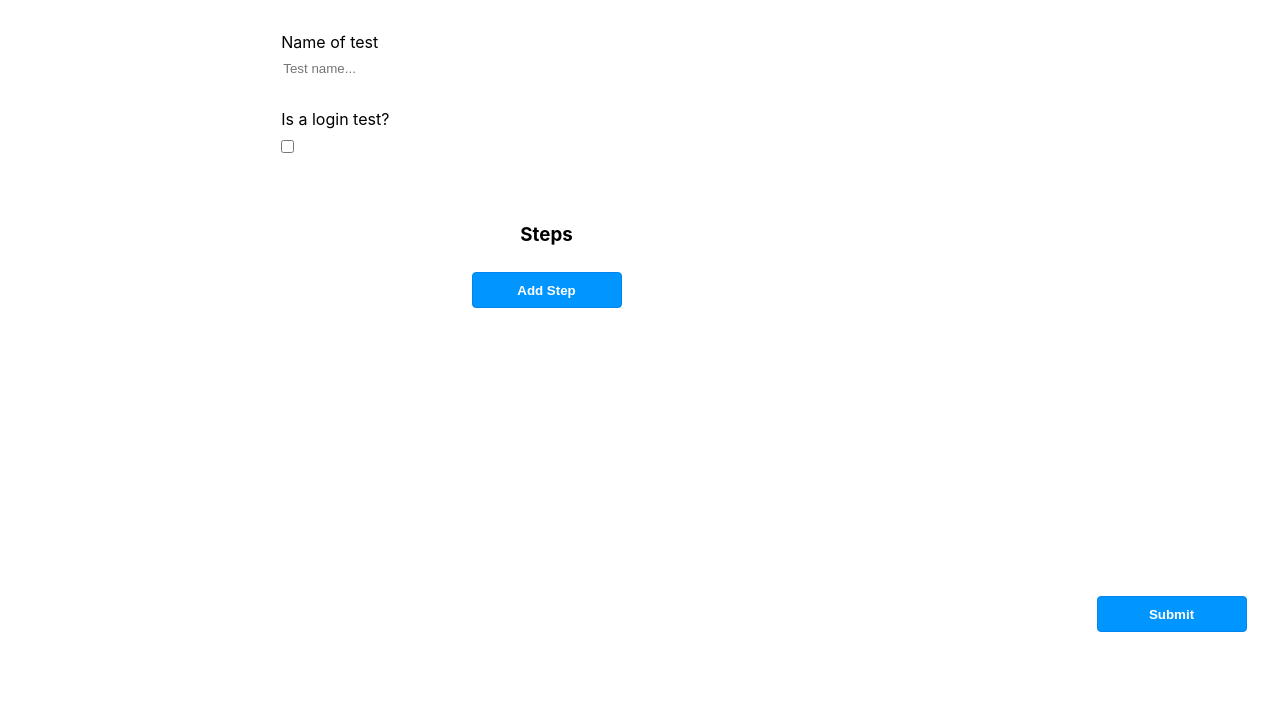
Test: Create test server error
The image size is (1280, 720).
Type "ReactTest" into the field with test id "testCreateTextInput".
click(549, 68); type("ReactTest")  # box [281,60,816,77]
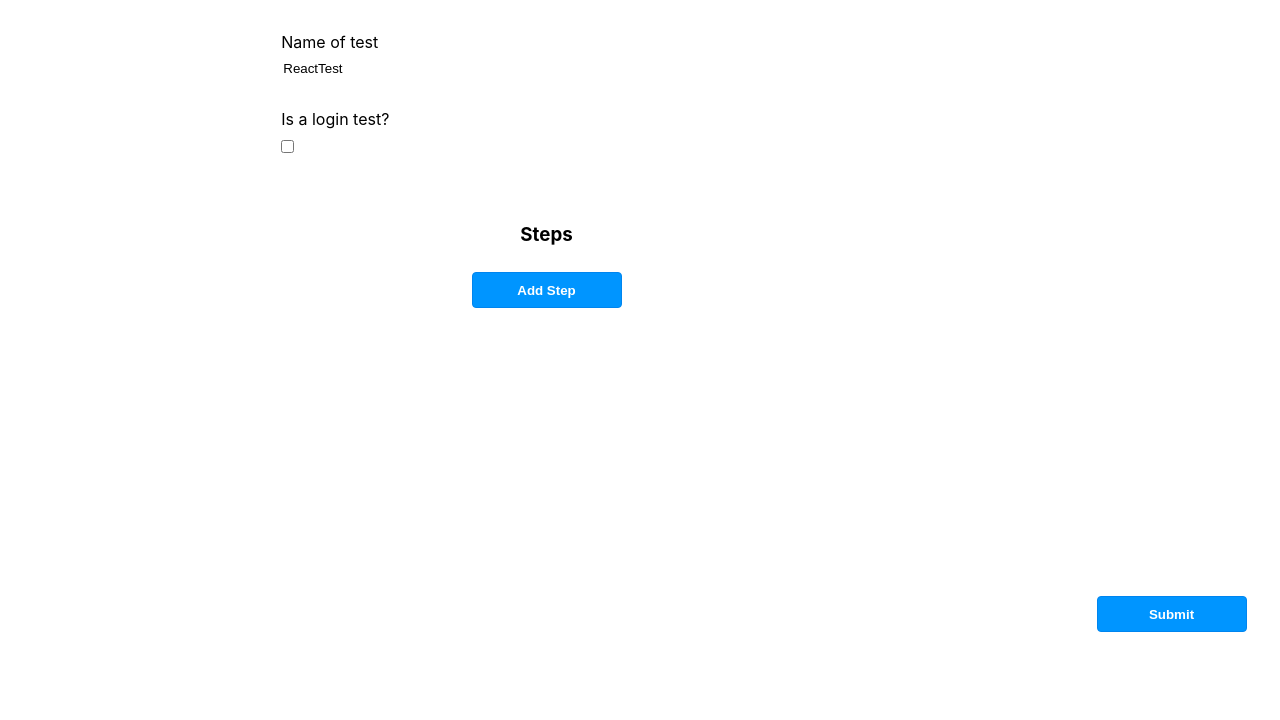
Click the button with test id "testCreateSubmit".
click(1172, 614)  # box [1096,596,1246,632]
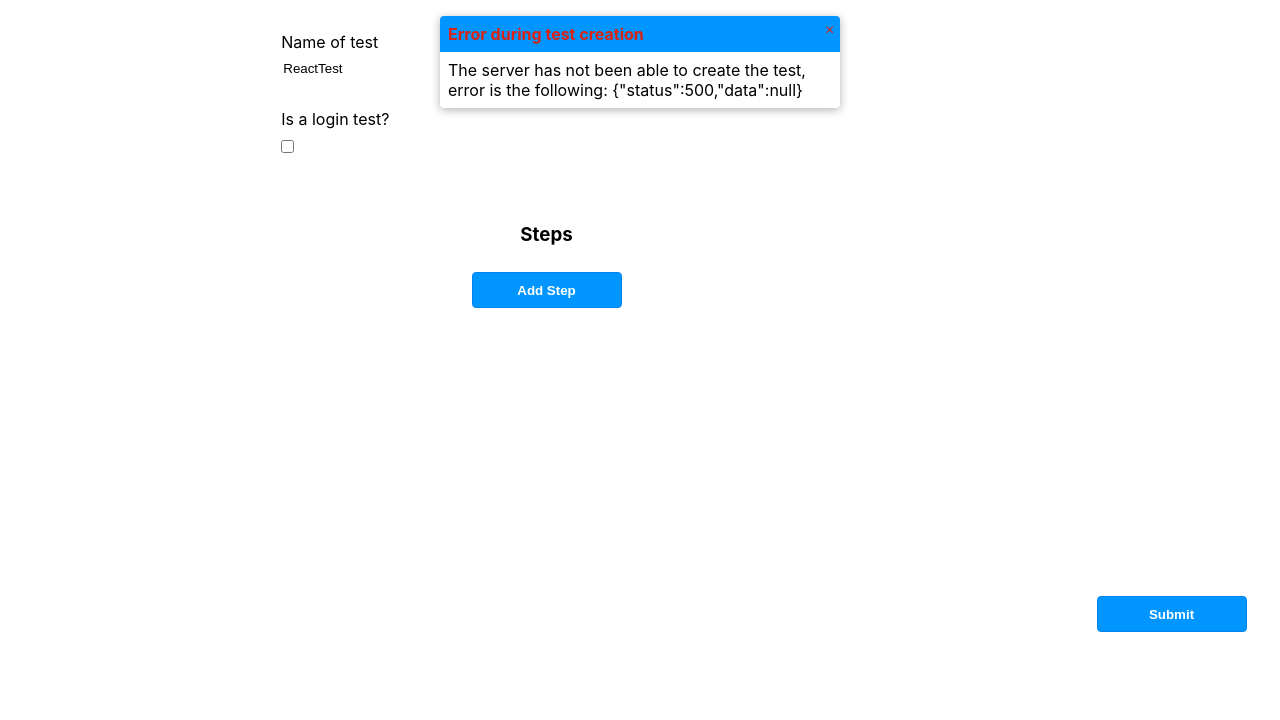
Expected: the text with test id "modalError" is shown, [440,52,840,108]
Expected: the text with test id "modalError" shows "The server has not been able to create the test, error is the following:", [448,60,806,100]
